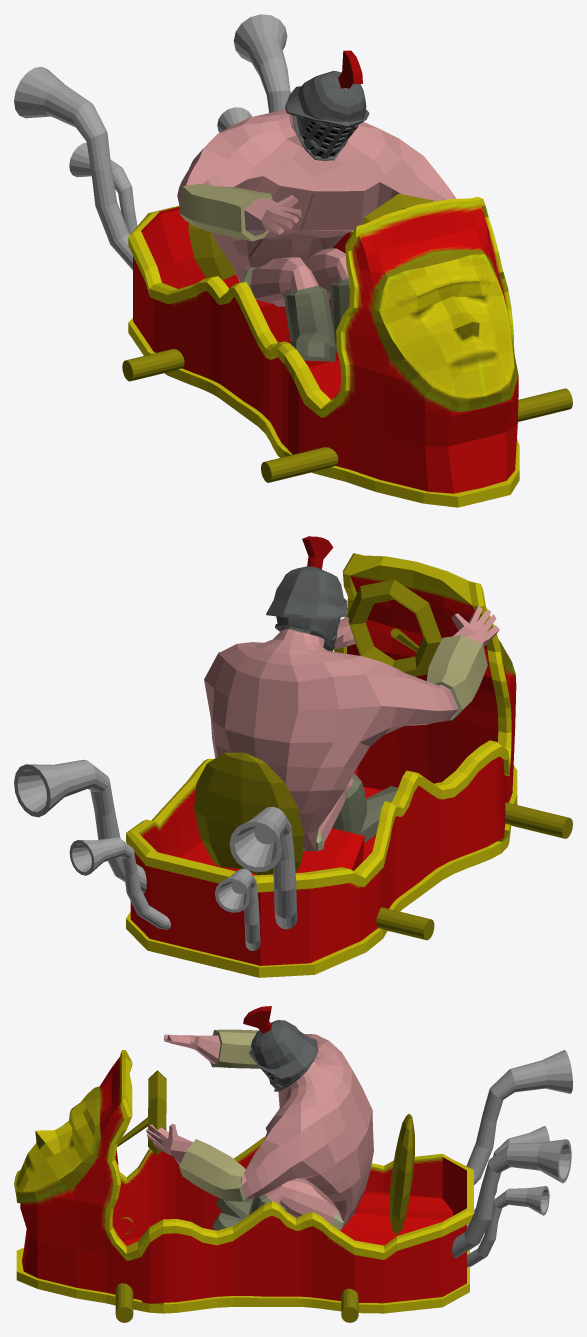
The model's file is gladiVacile_000581.obj.
3 views of the same model, one above another, from view 1: azimuth 30°, elevation 25°; view 2: azimuth 150°, elevation 25°; view 3: azimuth 270°, elevation 25° (orthographic). The views are drawn at different scales.
Parts seen in each view (by area): view 1: GladiChasis_GladiChasisH, Gadiador_Gladiador_H.001, GladiTubos_GladiTubosH, GladiVolante_GladiVolanteH; view 2: GladiChasis_GladiChasisH, Gadiador_Gladiador_H.001, GladiTubos_GladiTubosH, GladiVolante_GladiVolanteH; view 3: GladiChasis_GladiChasisH, Gadiador_Gladiador_H.001, GladiTubos_GladiTubosH, GladiVolante_GladiVolanteH.
Part boxes in pixels (x1=…): GladiChasis_GladiChasisH: x1=128, y1=196, x2=519, y2=507; Gadiador_Gladiador_H.001: x1=177, y1=50, x2=456, y2=361; GladiTubos_GladiTubosH: x1=14, y1=14, x2=290, y2=269; GladiVolante_GladiVolanteH: x1=122, y1=194, x2=572, y2=482; GladiChasis_GladiChasisH: x1=126, y1=553, x2=517, y2=977; Gadiador_Gladiador_H.001: x1=204, y1=536, x2=499, y2=851; GladiTubos_GladiTubosH: x1=14, y1=759, x2=297, y2=950; GladiVolante_GladiVolanteH: x1=194, y1=579, x2=572, y2=940; GladiChasis_GladiChasisH: x1=14, y1=1050, x2=473, y2=1313; Gadiador_Gladiador_H.001: x1=146, y1=1006, x2=373, y2=1230; GladiTubos_GladiTubosH: x1=452, y1=1050, x2=572, y2=1267; GladiVolante_GladiVolanteH: x1=115, y1=1070, x2=414, y2=1322.
Bounding box in the file's own units: 5.46 × 5.75 × 10.78.
